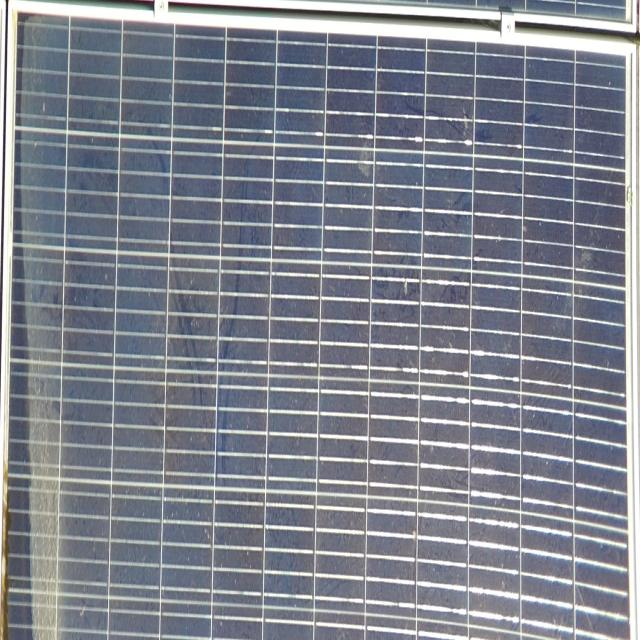Dust: (7, 7, 91, 640), (150, 151, 280, 518)
